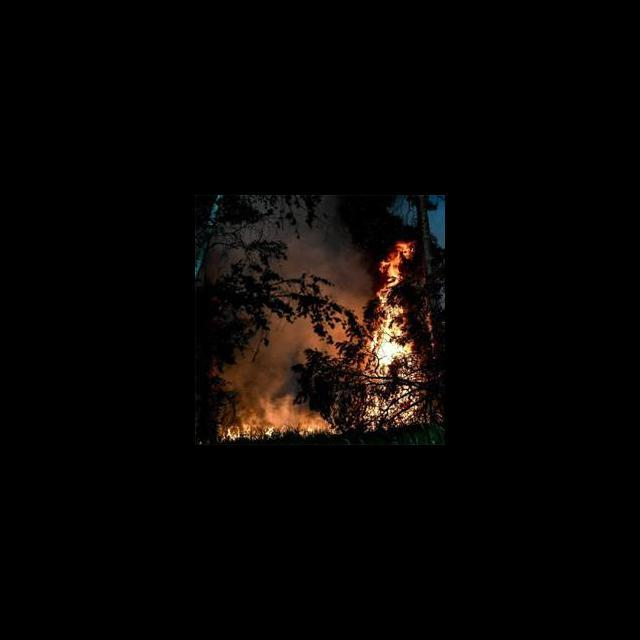Fire: (368, 238, 427, 430), (225, 418, 332, 442)
